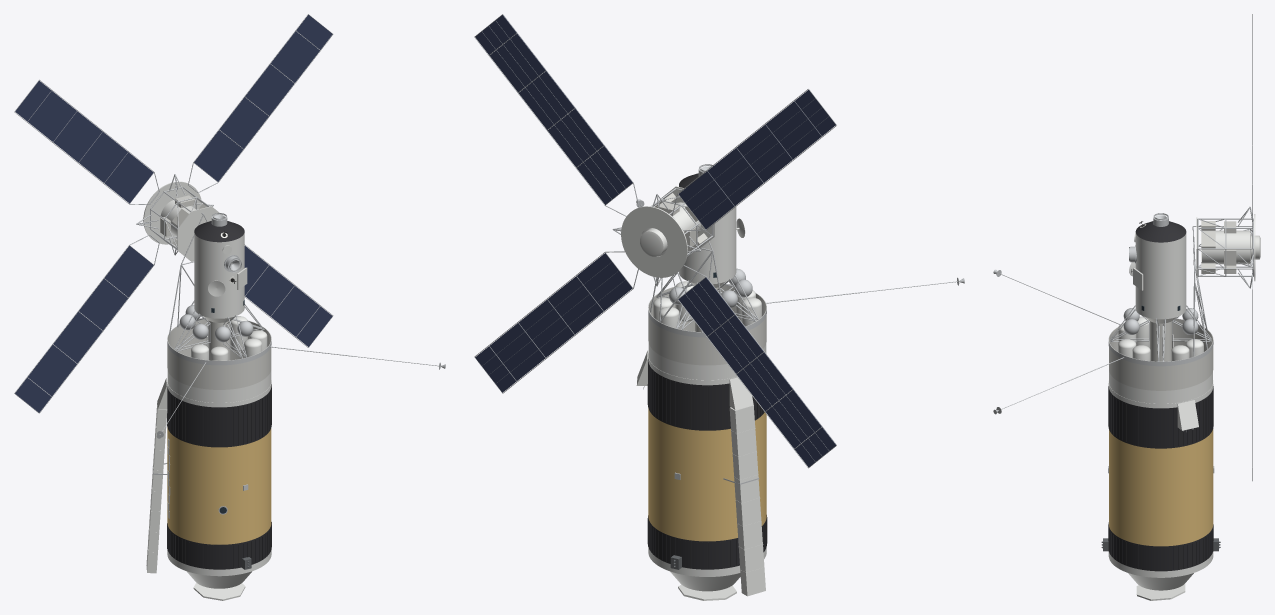
The model's file is workshop.glb.
The picture shows the model from 3 angles, left to right: view 1: azimuth 30°, elevation 25°; view 2: azimuth 150°, elevation 25°; view 3: azimuth 270°, elevation 25°; orthographic projection. The views are drawn at different scales.
Parts seen in each view (by area): view 1: OWS_HabitationWall, OWS_AftSkirtInner, ATM_Wing_3_Cells, ATM_Wing_1_Cells, ATM_Wing_4_Cells, ATM_Wing_2_Cells, FAS_InnerWallAndForwardDome, MDA_EarthObservationKit, ATM_Canister, SAS_Wing1_BeamFairing, AM_Bellows, IU_Skin (+11 smaller); view 2: OWS_HabitationWall, ATM_Wing_1_Cells, ATM_Wing_3_Cells, ATM_Wing_2_Cells, ATM_Wing_4_Cells, OWS_AftSkirtInner, SAS_Wing1_BeamFairing, ATM_Canister, FAS_InnerWallAndForwardDome, MDA_EarthObservationKit, AM_Bellows, FAS_OxygenTanks (+8 smaller); view 3: OWS_HabitationWall, OWS_AftSkirtInner, FAS_InnerWallAndForwardDome, MDA_EarthObservationKit, ATM_Canister, FAS_OxygenTanks, AM_Bellows, IU_Skin, ATM_Outriggers, OWS_SkirtBands, OWS_RefrigerationRadiator, ATM_RackEquipment (+6 smaller).
Boxes of the visible parts, box(x1,y1,x2,y2) form: OWS_HabitationWall: box(167, 427, 271, 544); OWS_AftSkirtInner: box(167, 384, 271, 569); ATM_Wing_3_Cells: box(15, 246, 153, 412); ATM_Wing_1_Cells: box(194, 15, 332, 181); ATM_Wing_4_Cells: box(15, 80, 153, 203); ATM_Wing_2_Cells: box(244, 246, 332, 347); FAS_InnerWallAndForwardDome: box(167, 318, 271, 389); MDA_EarthObservationKit: box(194, 233, 247, 301); ATM_Canister: box(143, 181, 221, 261); SAS_Wing1_BeamFairing: box(146, 403, 167, 573); AM_Bellows: box(174, 304, 264, 358); IU_Skin: box(167, 371, 271, 402); OWS_HabitationWall: box(648, 408, 766, 541); ATM_Wing_1_Cells: box(475, 15, 632, 204); ATM_Wing_3_Cells: box(678, 277, 835, 467); ATM_Wing_2_Cells: box(475, 253, 632, 392); ATM_Wing_4_Cells: box(678, 90, 835, 228); OWS_AftSkirtInner: box(647, 359, 767, 569); SAS_Wing1_BeamFairing: box(729, 405, 765, 596); ATM_Canister: box(621, 186, 714, 277); FAS_InnerWallAndForwardDome: box(648, 284, 766, 365); MDA_EarthObservationKit: box(686, 206, 745, 265); AM_Bellows: box(656, 268, 758, 329); FAS_OxygenTanks: box(653, 281, 761, 329); OWS_HabitationWall: box(1109, 429, 1213, 546); OWS_AftSkirtInner: box(1108, 386, 1213, 571); FAS_InnerWallAndForwardDome: box(1109, 318, 1213, 390); MDA_EarthObservationKit: box(1129, 233, 1186, 302); ATM_Canister: box(1196, 214, 1260, 281); FAS_OxygenTanks: box(1118, 316, 1203, 361); AM_Bellows: box(1110, 305, 1211, 361); IU_Skin: box(1108, 371, 1213, 403); ATM_Outriggers: box(1197, 206, 1253, 288); OWS_SkirtBands: box(1108, 383, 1213, 577); OWS_RefrigerationRadiator: box(1128, 573, 1193, 600); ATM_RackEquipment: box(1201, 221, 1236, 273).
Size of the model in its own units: 23.4 by 35.71 by 16.89.
